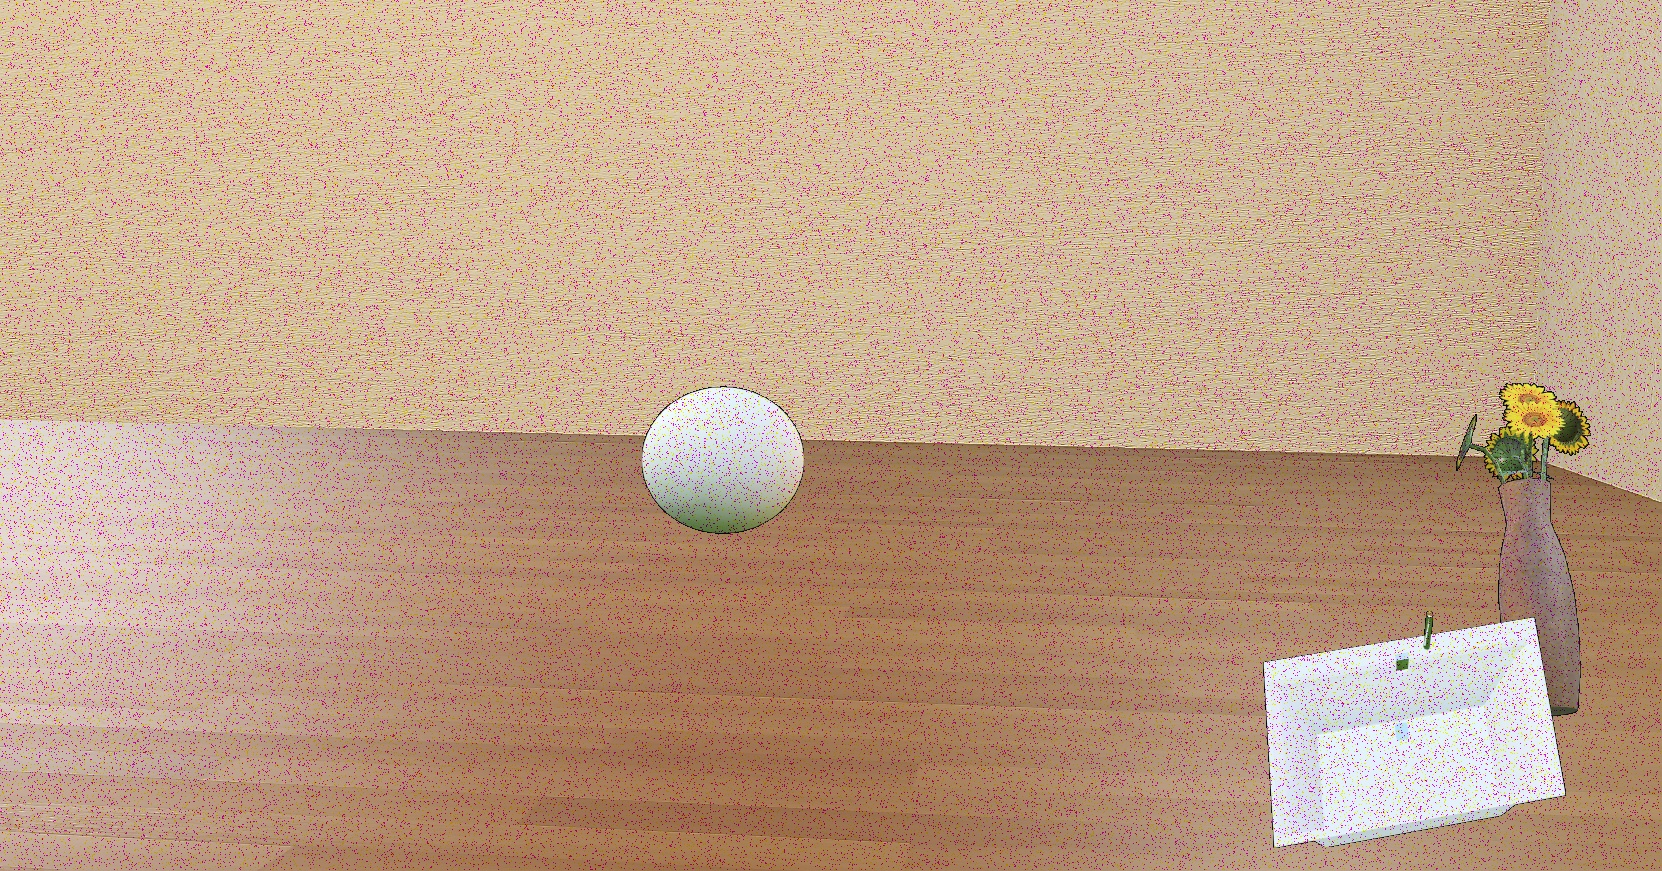banera: (1263, 610, 1566, 849)
flor: (1455, 382, 1592, 717)
pelota: (641, 386, 805, 534)
